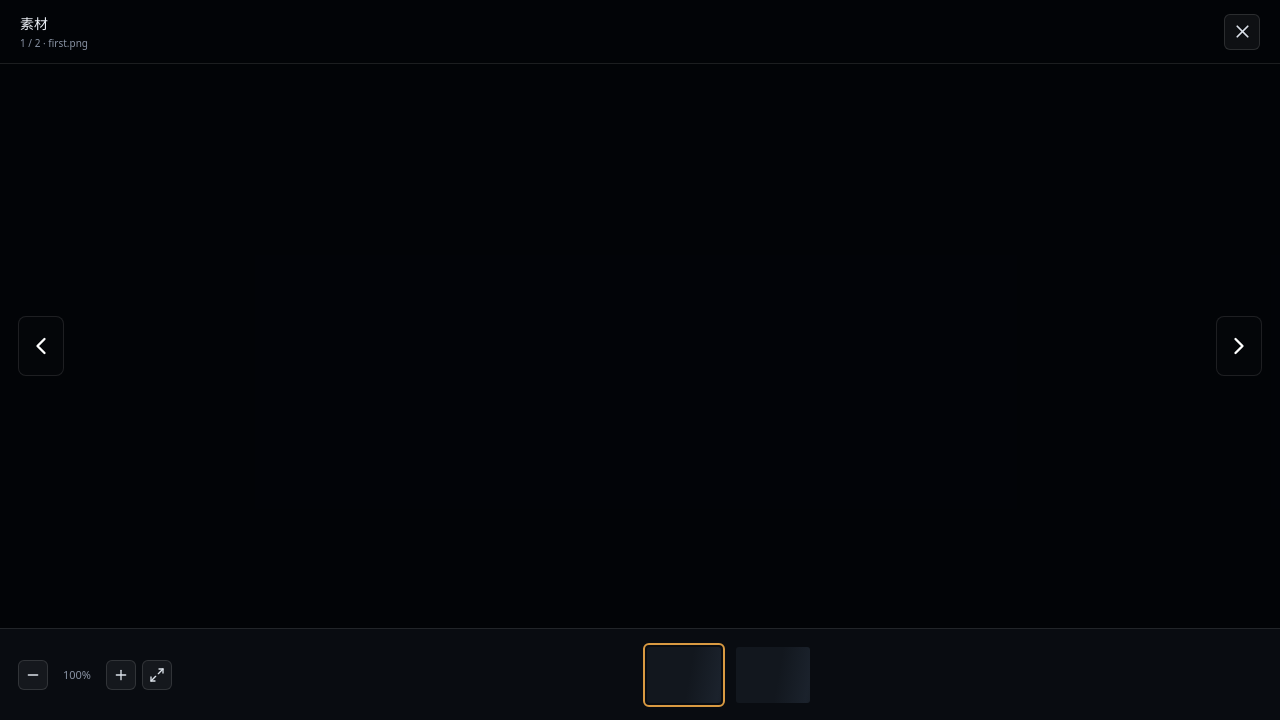
Scenario: ImageLightbox › clamps and resets zoom
What coordinates should you click on to do the following:
click the button named "放大"
I would click on:
 (121, 674)
Its box is [106,660,136,690].
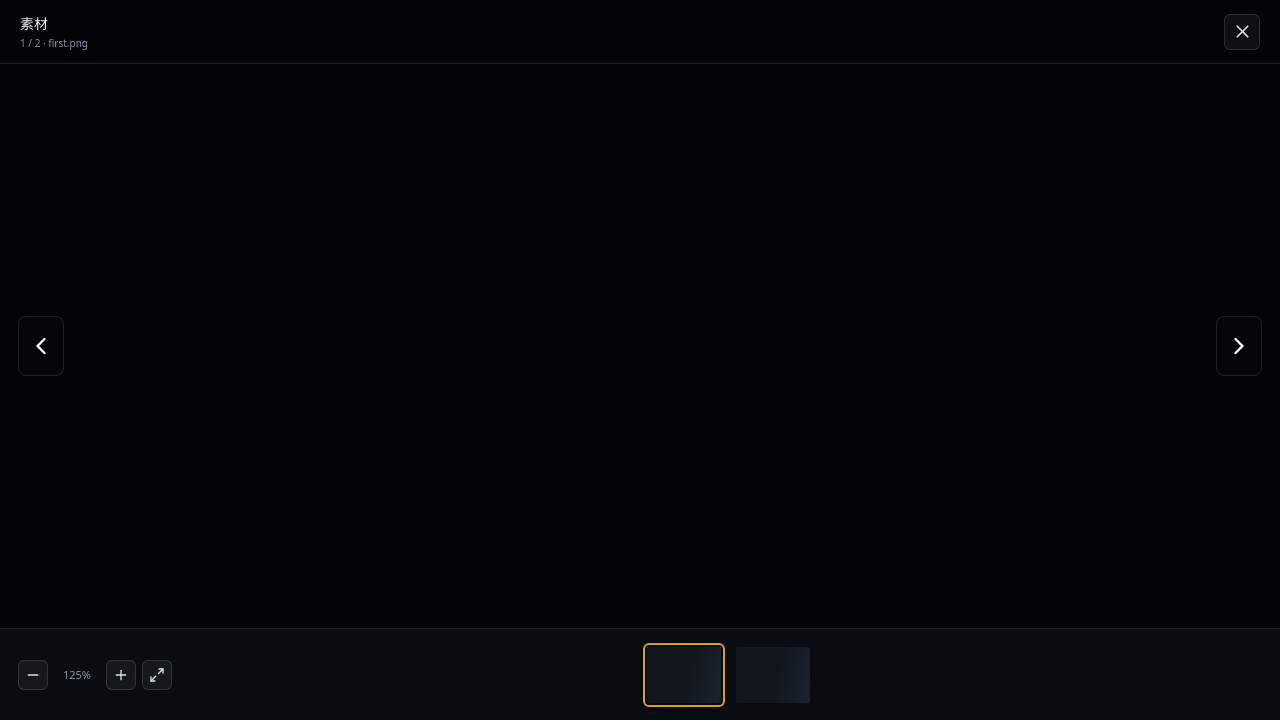
Expected: the text "125%" is shown, [63,667,91,682]
What coordinates should you click on to do the following:
click the button named "适应窗口"
I would click on:
 (157, 674)
Its box is [142,660,172,690].
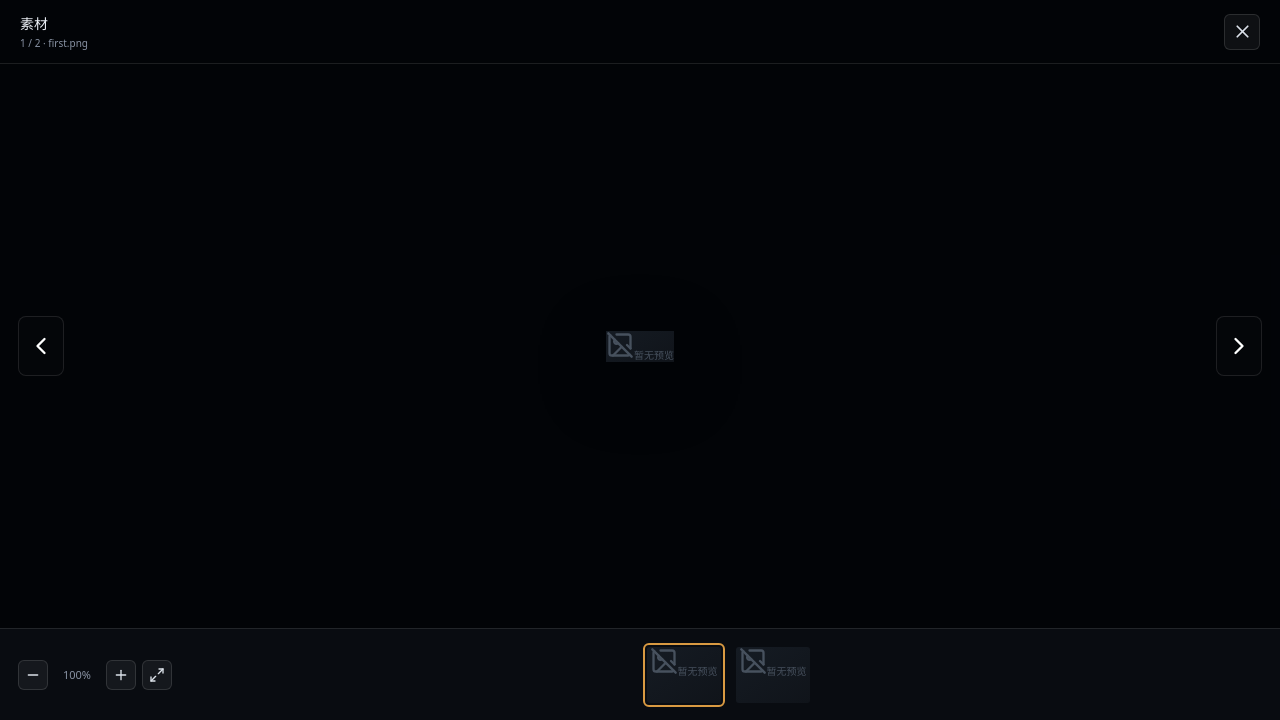
Expected: the text "100%" is shown, [63,667,91,682]
